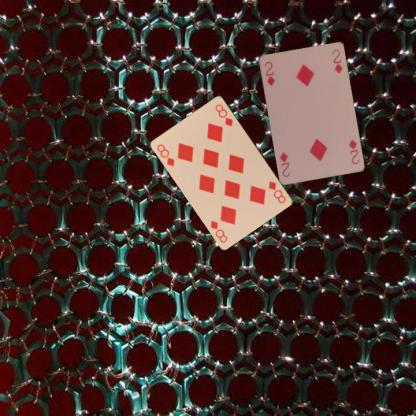2d: (346, 137, 361, 165), (262, 58, 276, 87)
8d: (266, 178, 288, 204), (154, 142, 176, 168)
